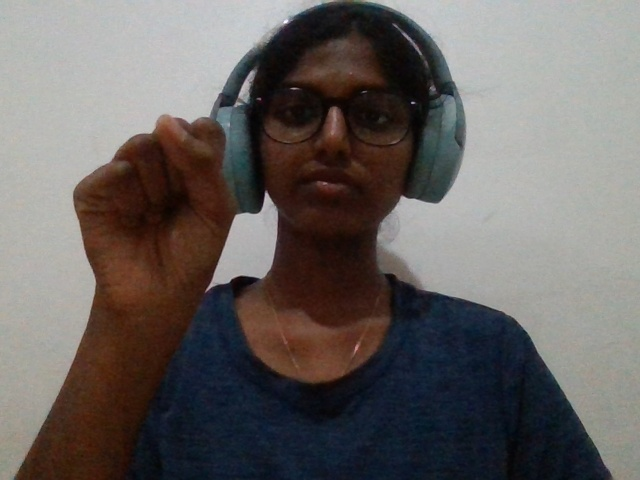Yes: (55, 110, 256, 332)
